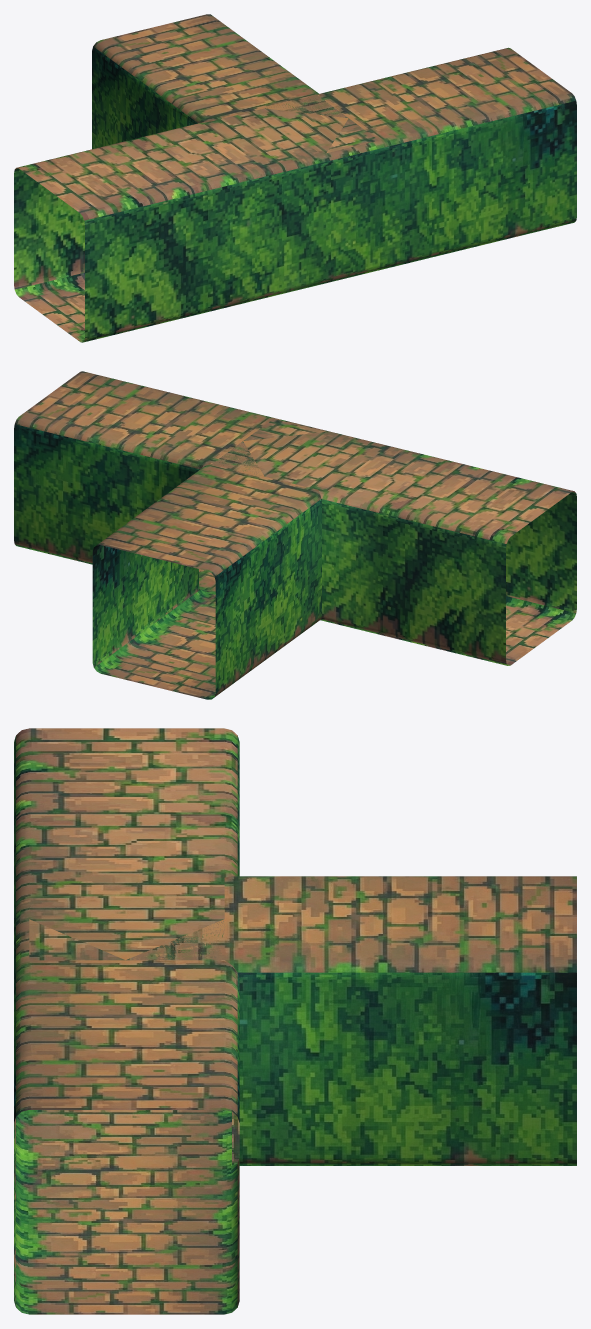
The model's file is newcorridor3.fbx.
The picture shows the model from 3 angles, top to bottom: view 1: azimuth 30°, elevation 25°; view 2: azimuth 150°, elevation 25°; view 3: azimuth 270°, elevation 25°; orthographic projection. The views are drawn at different scales.
Parts seen in each view (by area): view 1: Cube; view 2: Cube; view 3: Cube.
Boxes of the visible parts, x1=… form: Cube: x1=14, y1=14, x2=576, y2=342; Cube: x1=14, y1=371, x2=576, y2=699; Cube: x1=14, y1=728, x2=576, y2=1314.
Size of the model in its own units: 560 by 140 by 349.
